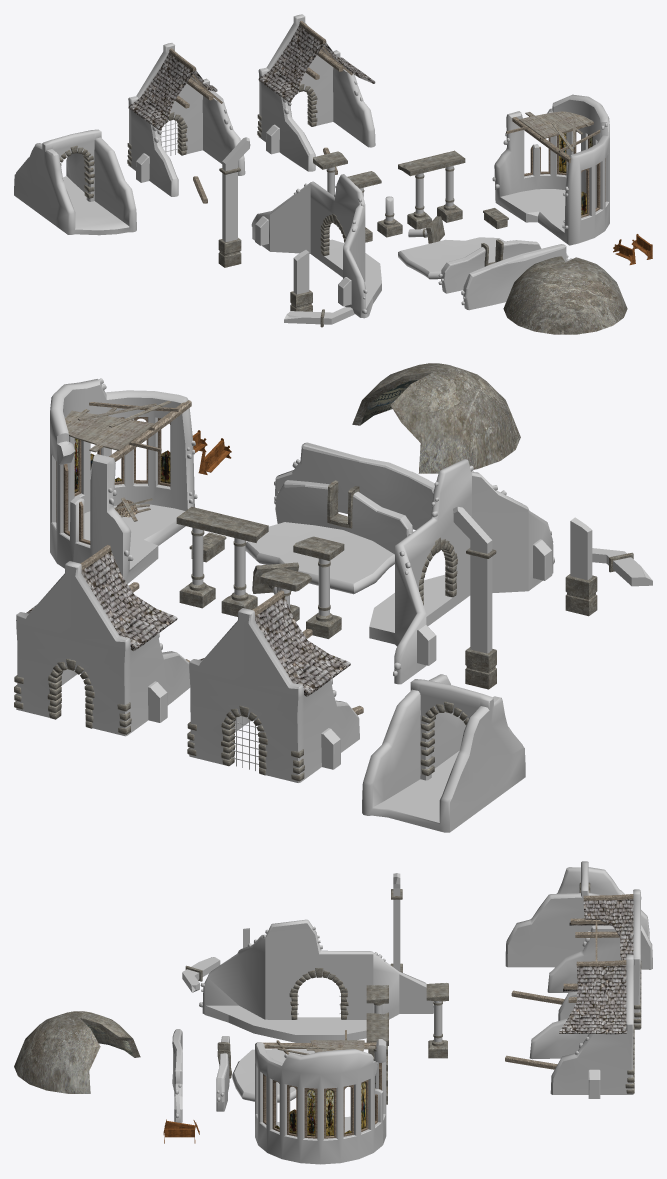
The model's file is ruins_creation_kit.FBX.
3 renders of one model, top to bottom at view 1: azimuth 30°, elevation 25°; view 2: azimuth 150°, elevation 25°; view 3: azimuth 270°, elevation 25°, orthographic. The views are drawn at different scales.
Visible parts, largest first — view 1: nef_01, entrance_02, entrance_03, corridor_01, entrance_01, dome_01, pillars_01, destroyed_wall_01, pillar_01, destroyed_floor_01, destroyed_wall_02, pillar_broke_01 (+2 smaller); view 2: nef_01, entrance_02, entrance_03, corridor_01, entrance_01, dome_01, pillars_01, destroyed_wall_01, destroyed_floor_01, destroyed_wall_02, pillar_01, pillar_broke_01 (+2 smaller); view 3: entrance_01, nef_01, entrance_02, corridor_01, dome_01, entrance_03, pillars_01, destroyed_floor_01, pillar_02, destroyed_wall_02, destroyed_wall_01, pillar_01 (+1 smaller).
Boxes of the visible parts, x1,y1,x2,y2 form: nef_01: [492, 94, 609, 245]; entrance_02: [257, 14, 375, 174]; entrance_03: [127, 43, 245, 203]; corridor_01: [14, 129, 136, 235]; entrance_01: [251, 174, 381, 318]; dome_01: [503, 256, 627, 334]; pillars_01: [347, 150, 465, 243]; destroyed_wall_01: [461, 244, 572, 310]; pillar_01: [218, 137, 250, 267]; destroyed_floor_01: [398, 237, 504, 279]; destroyed_wall_02: [438, 239, 541, 293]; pillar_broke_01: [290, 250, 312, 311]; nef_01: [50, 378, 197, 583]; entrance_02: [14, 545, 190, 736]; entrance_03: [187, 590, 363, 782]; corridor_01: [362, 674, 525, 832]; entrance_01: [369, 459, 554, 684]; dome_01: [352, 363, 520, 473]; pillars_01: [176, 506, 344, 638]; destroyed_wall_01: [274, 442, 434, 529]; destroyed_floor_01: [245, 522, 394, 594]; destroyed_wall_02: [274, 480, 413, 554]; pillar_01: [453, 506, 496, 689]; pillar_broke_01: [565, 517, 597, 616]; entrance_01: [199, 919, 433, 1042]; nef_01: [255, 1030, 386, 1164]; entrance_02: [505, 954, 634, 1098]; corridor_01: [505, 861, 652, 969]; dome_01: [14, 1011, 140, 1093]; entrance_03: [511, 889, 641, 1029]; pillars_01: [366, 985, 388, 1104]; destroyed_floor_01: [232, 1049, 315, 1102]; pillar_02: [426, 983, 448, 1058]; destroyed_wall_02: [216, 1036, 231, 1111]; destroyed_wall_01: [172, 1029, 182, 1122]; pillar_01: [390, 873, 402, 972].
Size of the model in its own units: 375 by 103 by 455.
